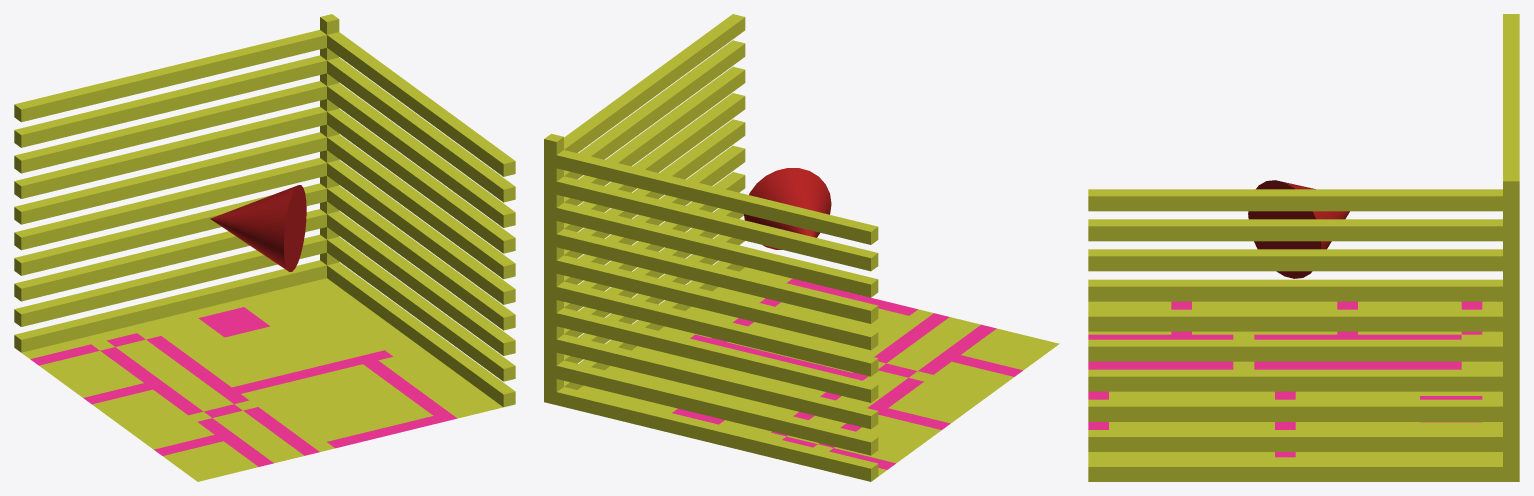
File: simple_006_Pivot_01.dae
The picture shows the model from 3 angles, left to right: view 1: azimuth 30°, elevation 25°; view 2: azimuth 150°, elevation 25°; view 3: azimuth 270°, elevation 25°; orthographic projection. The views are drawn at different scales.
Visible parts, largest first — view 1: pCube1, pPlane1, pCone1; view 2: pCube1, pPlane1, pCone1; view 3: pCube1, pPlane1, pCone1.
Boxes of the visible parts, left/top/right/bottom form: pCube1: left=14, top=14, right=515, bottom=407; pPlane1: left=21, top=278, right=502, bottom=481; pCone1: left=210, top=185, right=306, bottom=271; pCube1: left=544, top=14, right=878, bottom=481; pPlane1: left=578, top=267, right=1059, bottom=476; pCone1: left=744, top=168, right=831, bottom=249; pCube1: left=1088, top=14, right=1519, bottom=481; pPlane1: left=1088, top=301, right=1502, bottom=459; pCone1: left=1248, top=180, right=1349, bottom=278.
Size of the model in its own units: 52 by 52 by 40.
